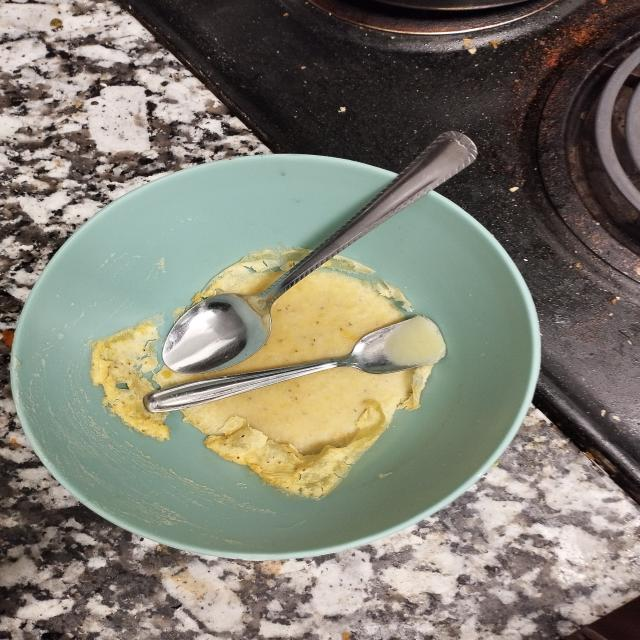Spoon: (124, 135, 513, 372), (111, 312, 468, 417)
